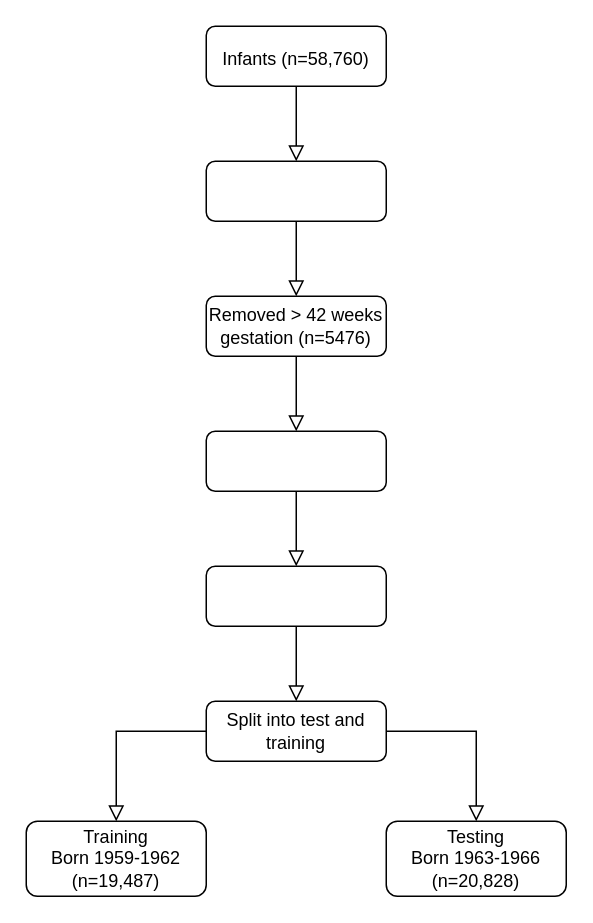
This 593x923 diagram has some shape labels left out. The centre of each missing label's shape, as x and y in pixels:
Remaining infants (n=40.315): the point at 295,595
Removed < 37 weeks gestation (n=12,005): the point at 295,190
Removed mother age < 16 (n=964): the point at 295,460
